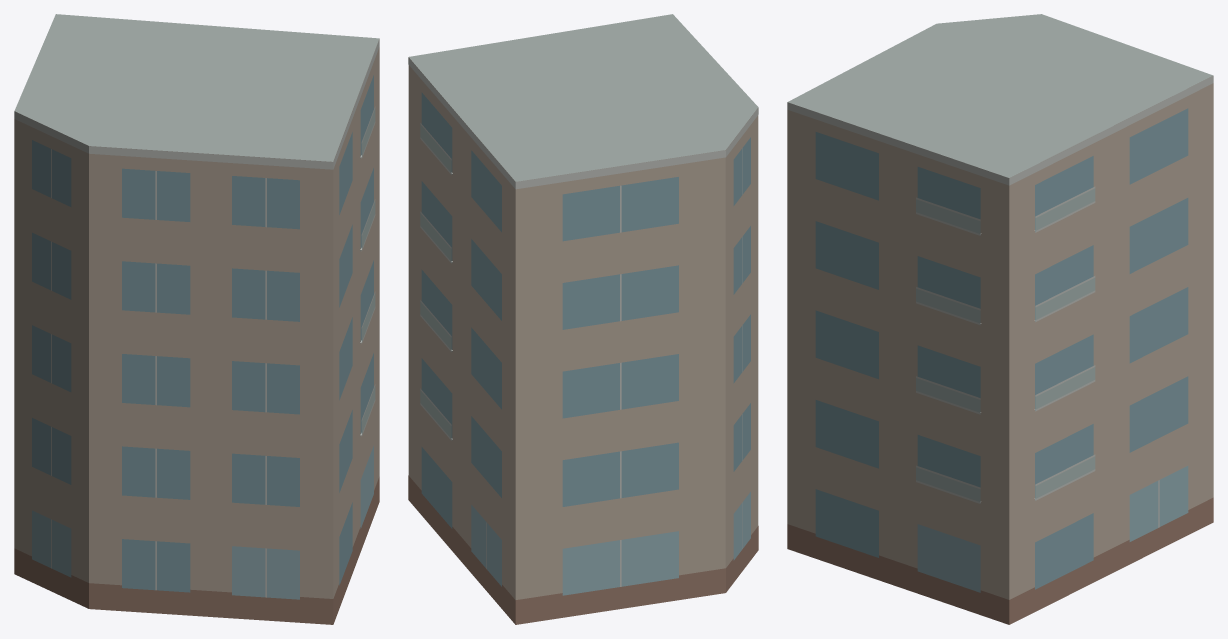
Rendered from survey-upis-32885742.glb.
3 views of the same model, side by side, from view 1: azimuth 30°, elevation 25°; view 2: azimuth 150°, elevation 25°; view 3: azimuth 270°, elevation 25° (orthographic). The views are drawn at different scales.
Visible parts, largest first — view 1: survey-upis-32885742.tmp; view 2: survey-upis-32885742.tmp; view 3: survey-upis-32885742.tmp.
Part boxes in pixels (left/top/right/bottom): survey-upis-32885742.tmp: left=14, top=14, right=379, bottom=624; survey-upis-32885742.tmp: left=408, top=14, right=758, bottom=624; survey-upis-32885742.tmp: left=787, top=14, right=1213, bottom=624.
Size of the model in its own units: 11.43 by 14.5 by 12.55.
